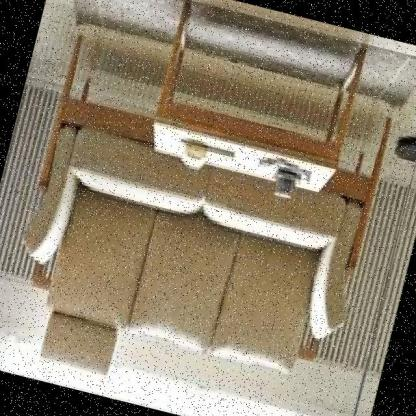Sofa: (0, 27, 408, 416)
